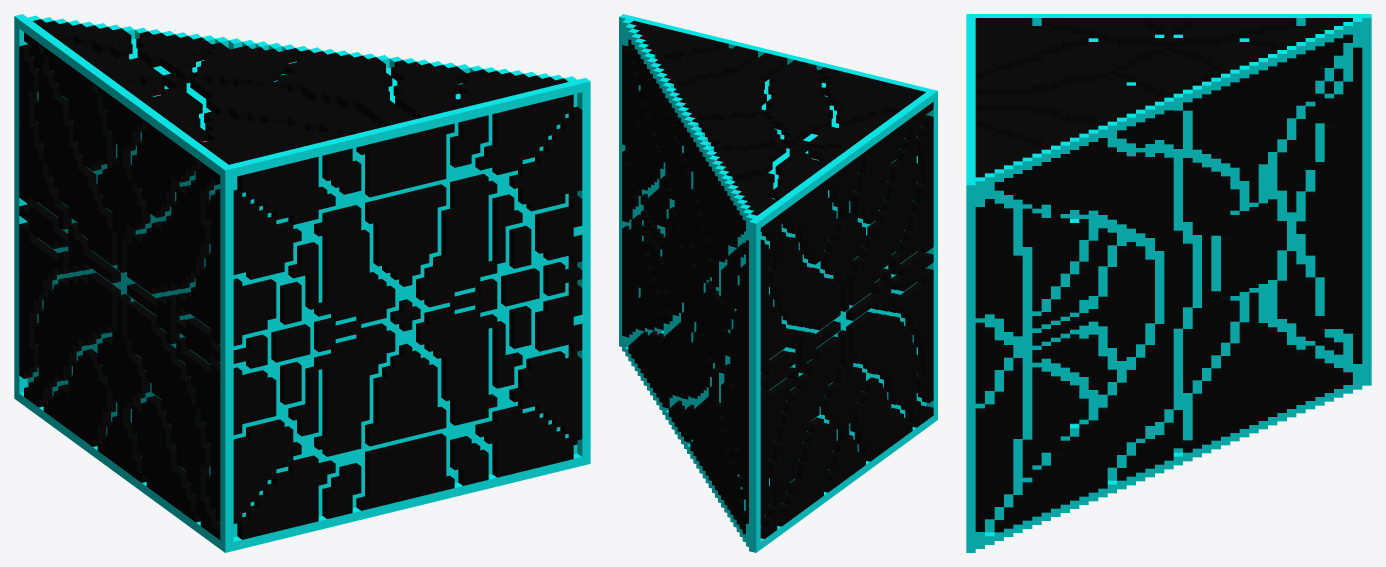
The model's file is RightTriangleHull.FBX.
3 renders of one model, left to right at view 1: azimuth 30°, elevation 25°; view 2: azimuth 150°, elevation 25°; view 3: azimuth 270°, elevation 25°, orthographic. The views are drawn at different scales.
Visible parts, largest first — view 1: RightTriangle; view 2: RightTriangle; view 3: RightTriangle.
Boxes of the visible parts, x1,y1,x2,y2 form: RightTriangle: (14,14,590,552); RightTriangle: (619,14,937,552); RightTriangle: (966,14,1371,552).
Size of the model in its own units: 43 by 43 by 43.
